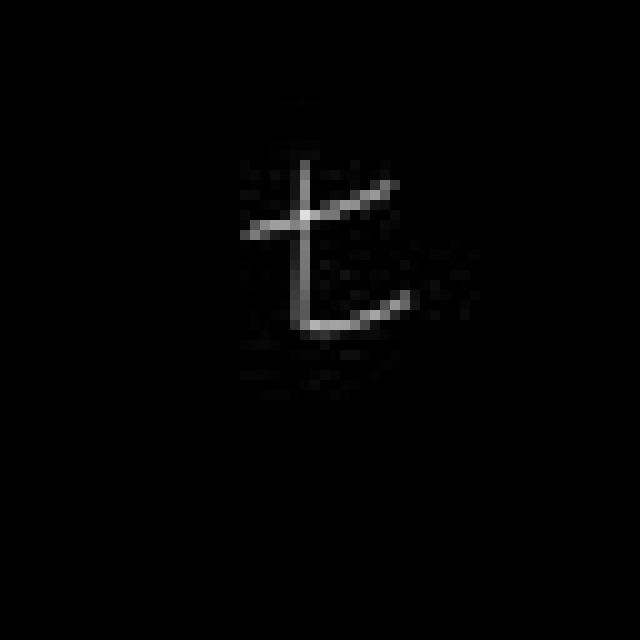7 -seven-: (239, 153, 416, 342)
